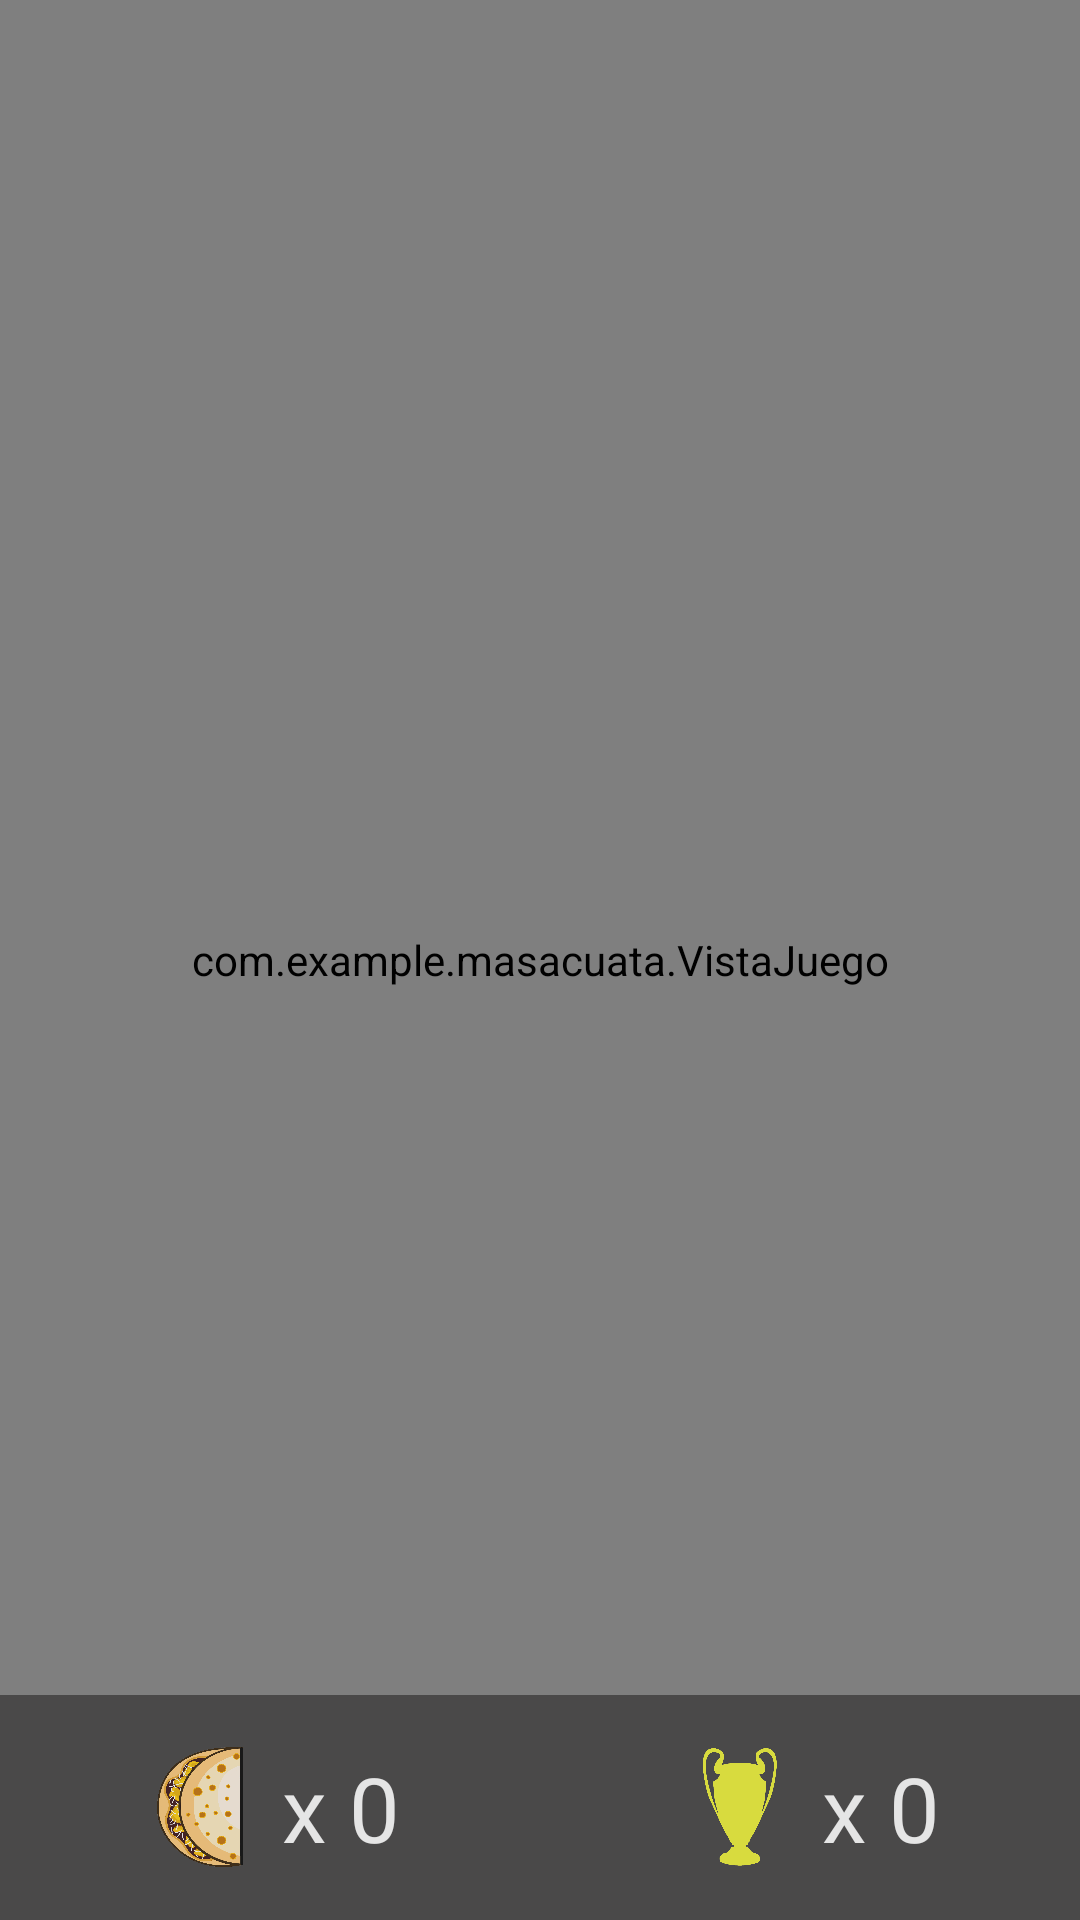

Where icons sit on this 1080px×1920px app screen, as (x1, y1, x2, y2):
baleada: (157, 1747, 243, 1867)
copa: (703, 1748, 777, 1866)
